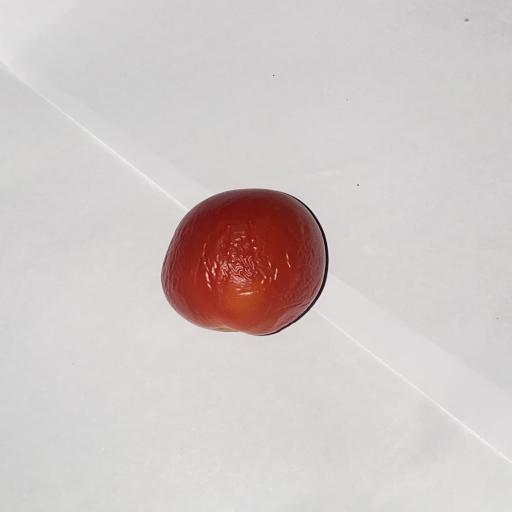spoiled: (162, 189, 326, 335)
